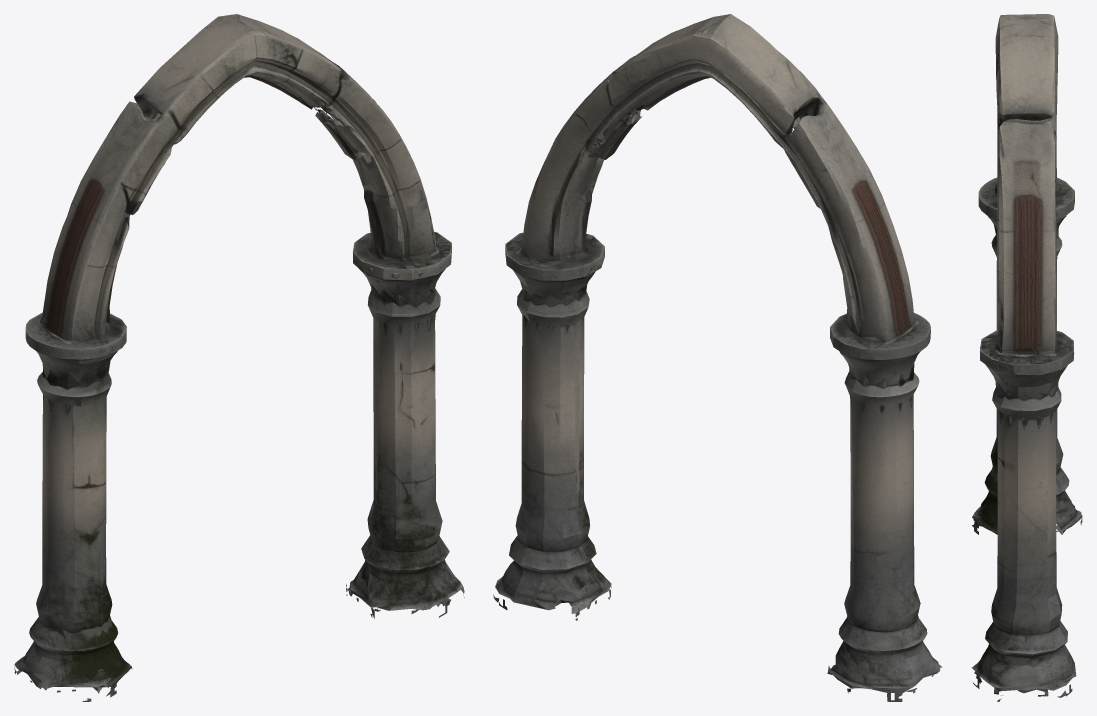
File: ok-ruin-arch-meshy.glb
The picture shows the model from 3 angles, left to right: view 1: azimuth 30°, elevation 25°; view 2: azimuth 150°, elevation 25°; view 3: azimuth 270°, elevation 25°; orthographic projection. The views are drawn at different scales.
Size of the model in its own units: 1.36 by 1.9 by 0.3246.
1 material, 1 textured.
